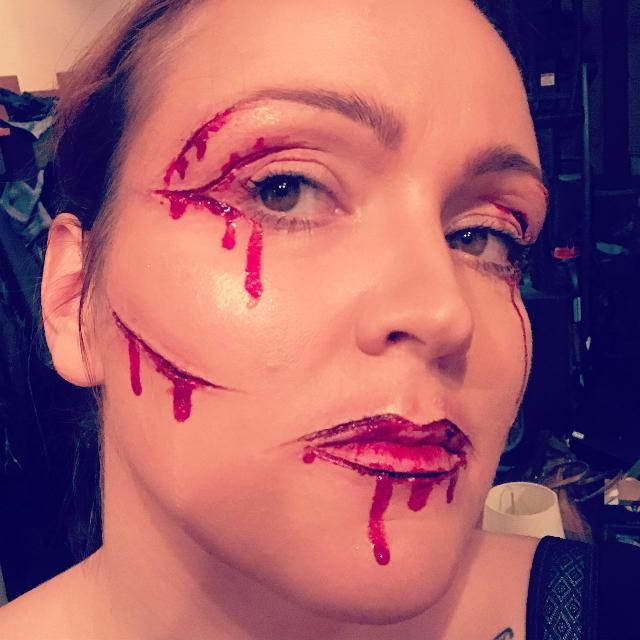blood: (155, 108, 289, 308), (298, 415, 472, 502), (111, 312, 225, 422), (476, 202, 534, 399), (368, 477, 393, 566), (408, 479, 442, 512)
